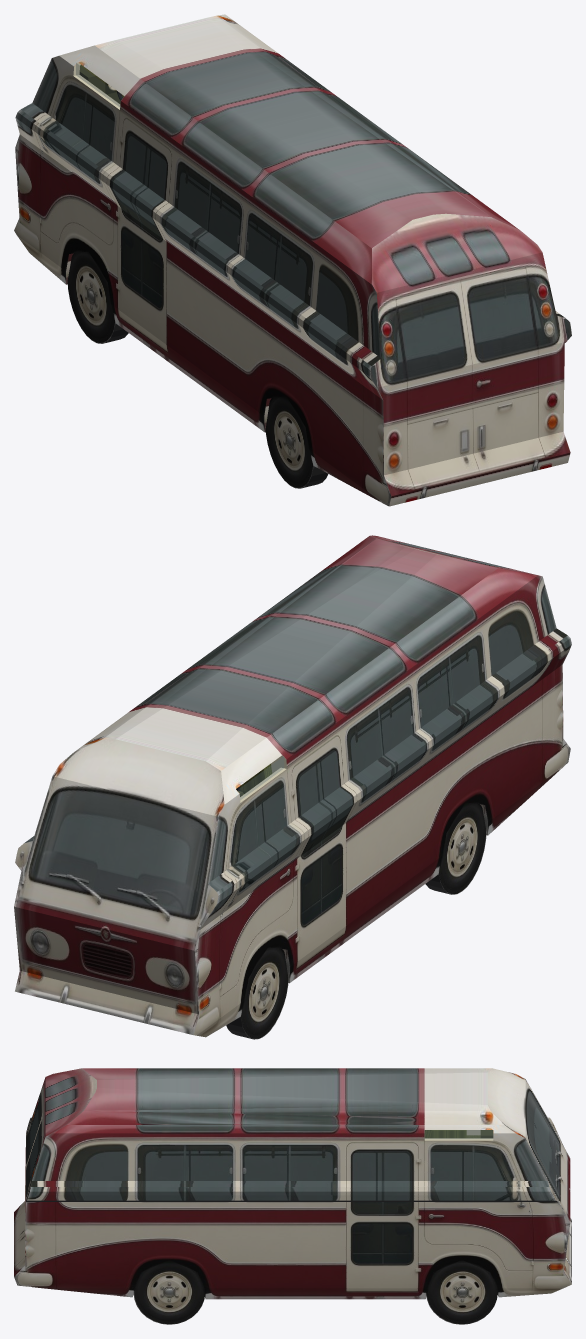
The model's file is hotel_shuttle.glb.
3 views of the same model, one above another, from view 1: azimuth 30°, elevation 25°; view 2: azimuth 150°, elevation 25°; view 3: azimuth 270°, elevation 25° (orthographic). The views are drawn at different scales.
Visible parts, largest first — view 1: hotel_shuttle, wheel_BL, wheel_FL, hotel_shuttle_cabin; view 2: hotel_shuttle, wheel_FL, wheel_BL, hotel_shuttle_cabin; view 3: hotel_shuttle, wheel_BR, wheel_FR, hotel_shuttle_cabin.
Boxes of the visible parts, box(x1,y1,x2,y2) form: hotel_shuttle: box(14, 14, 571, 506); wheel_BL: box(265, 396, 328, 488); wheel_FL: box(67, 251, 128, 343); hotel_shuttle_cabin: box(76, 63, 124, 106); hotel_shuttle: box(14, 535, 571, 1037); wheel_FL: box(226, 947, 288, 1039); wheel_BL: box(425, 802, 486, 894); hotel_shuttle_cabin: box(236, 756, 283, 799); hotel_shuttle: box(14, 1068, 571, 1299); wheel_BR: box(133, 1260, 204, 1324); wheel_FR: box(426, 1260, 497, 1324); hotel_shuttle_cabin: box(424, 1130, 493, 1138).
Size of the model in its own units: 1.99 by 2.69 by 6.49.
11 materials, 4 textured.
